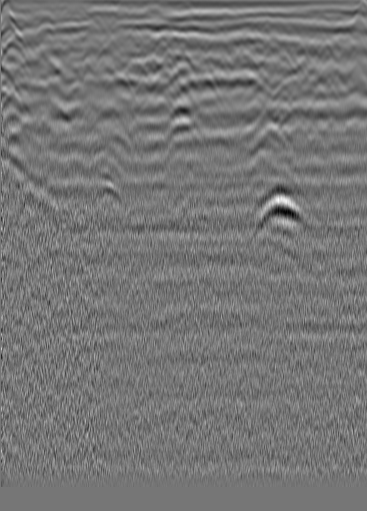가스: (90, 176, 123, 209)
상수: (325, 30, 345, 50)
오수: (36, 13, 56, 37)
우수: (188, 25, 208, 45)
